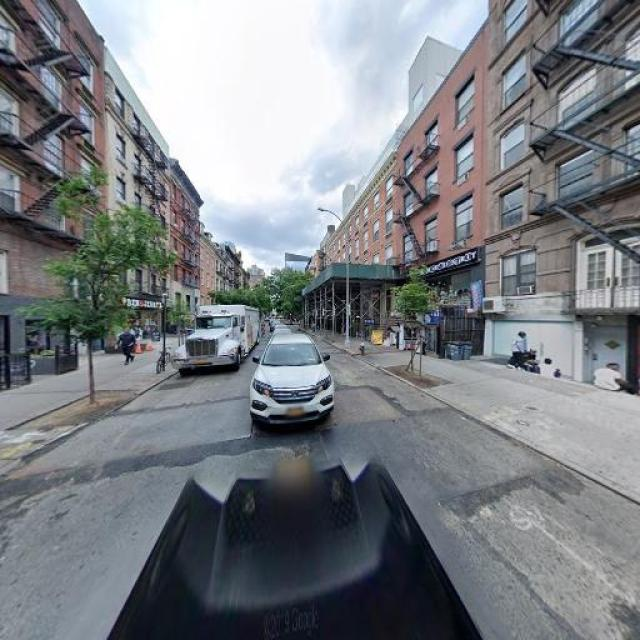Building: (489, 1, 640, 395), (1, 1, 102, 379), (395, 25, 485, 363)
